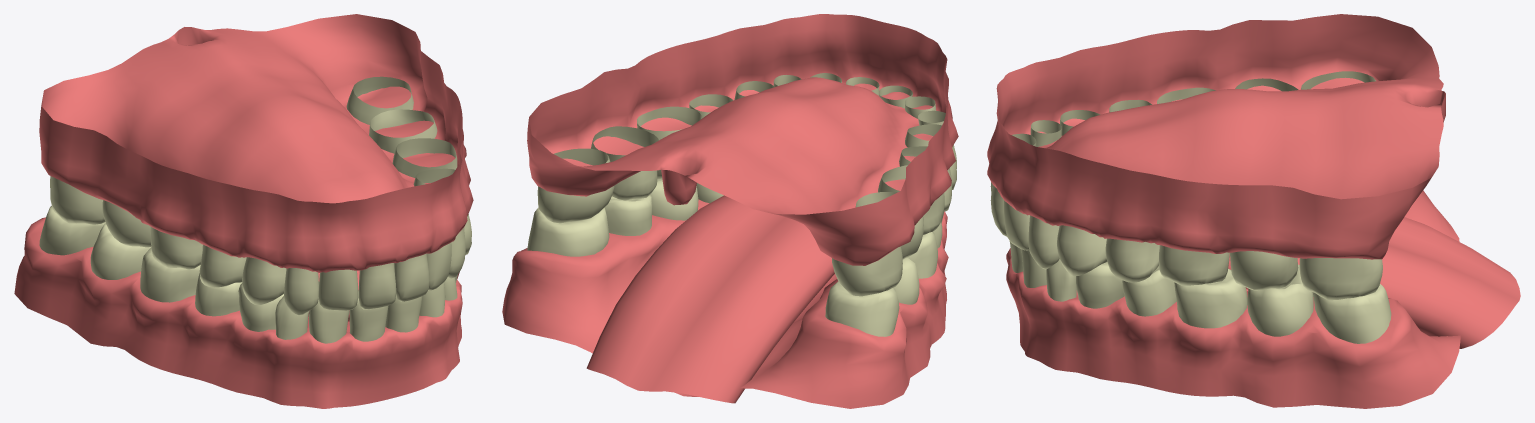
File: teeth.glb
The picture shows the model from 3 angles, left to right: view 1: azimuth 30°, elevation 25°; view 2: azimuth 150°, elevation 25°; view 3: azimuth 270°, elevation 25°; orthographic projection. The views are drawn at different scales.
Visible parts, largest first — view 1: Cube.001, Cube.003, Cube.002, Cube.004; view 2: Cube.001, Cube.010, Cube.003, Cube.002, Cube.004; view 3: Cube.001, Cube.003, Cube.002, Cube.004, Cube.010.
Part boxes in pixels (<box>): Cube.001: <box>39,14,473,272</box>; Cube.003: <box>14,217,462,408</box>; Cube.002: <box>50,76,471,315</box>; Cube.004: <box>39,206,457,343</box>; Cube.001: <box>527,14,958,265</box>; Cube.010: <box>586,195,834,403</box>; Cube.003: <box>502,199,948,408</box>; Cube.002: <box>537,73,956,296</box>; Cube.004: <box>527,179,943,336</box>; Cube.001: <box>987,14,1445,259</box>; Cube.003: <box>1006,190,1460,408</box>; Cube.002: <box>990,71,1382,300</box>; Cube.004: <box>1009,241,1391,343</box>; Cube.010: <box>1228,217,1520,348</box>.
Bounding box in the file's own units: 0.687 × 0.398 × 0.7748.
